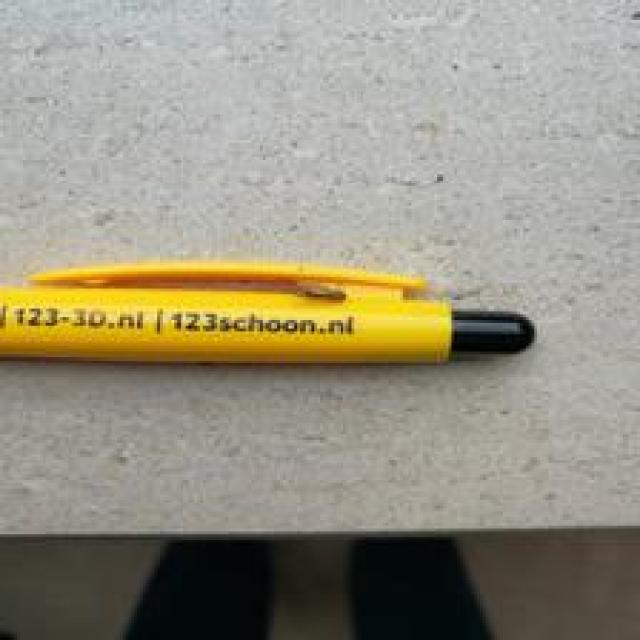Culex: (0, 260, 537, 369)
